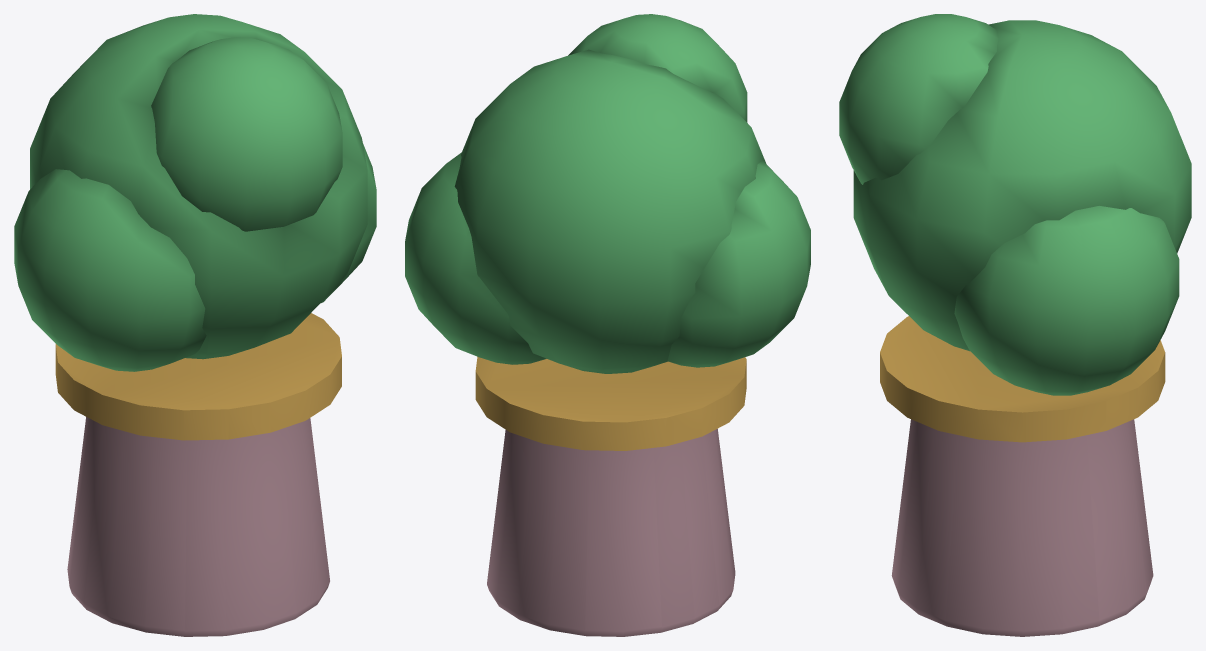
File: plant-small.glb
The picture shows the model from 3 angles, left to right: view 1: azimuth 30°, elevation 25°; view 2: azimuth 150°, elevation 25°; view 3: azimuth 270°, elevation 25°; orthographic projection. The views are drawn at different scales.
Visible parts, largest first — view 1: plant-small; view 2: plant-small; view 3: plant-small.
Boxes of the visible parts, bbox=[...] form: plant-small: bbox=[14, 14, 376, 636]; plant-small: bbox=[405, 14, 810, 636]; plant-small: bbox=[839, 14, 1191, 636].
Bounding box in the file's own units: 0.3754 × 0.564 × 0.3202.
